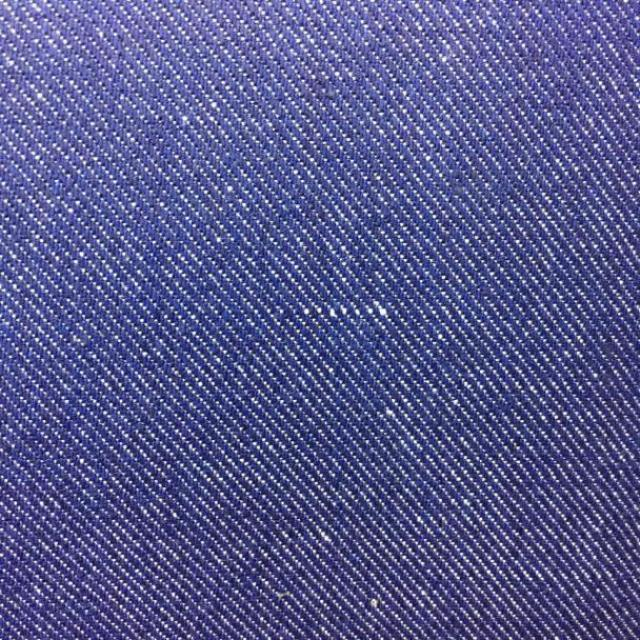Knot: (295, 304, 391, 318)
